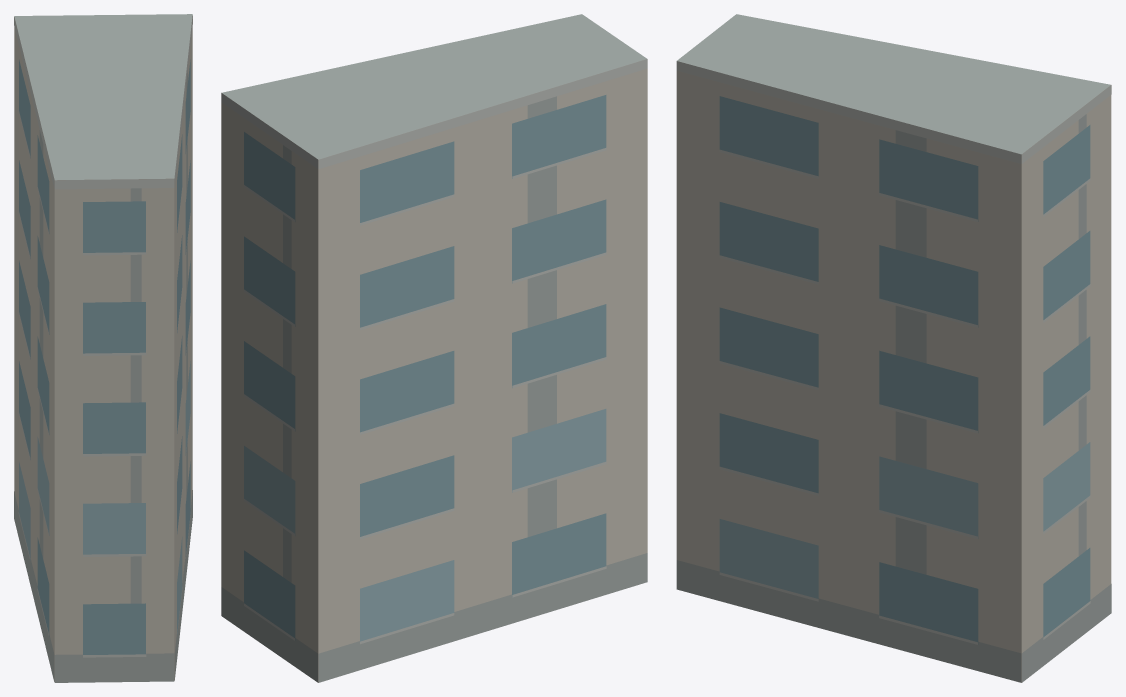
File: survey-upis-32727893.glb
The picture shows the model from 3 angles, left to right: view 1: azimuth 30°, elevation 25°; view 2: azimuth 150°, elevation 25°; view 3: azimuth 270°, elevation 25°; orthographic projection. The views are drawn at different scales.
Visible parts, largest first — view 1: survey-upis-32727893.tmp; view 2: survey-upis-32727893.tmp; view 3: survey-upis-32727893.tmp.
Boxes of the visible parts, x1=… form: survey-upis-32727893.tmp: x1=14, y1=14, x2=192, y2=682; survey-upis-32727893.tmp: x1=221, y1=14, x2=647, y2=682; survey-upis-32727893.tmp: x1=676, y1=14, x2=1111, y2=682.
Size of the model in its own units: 7.53 by 13.2 by 9.85.
